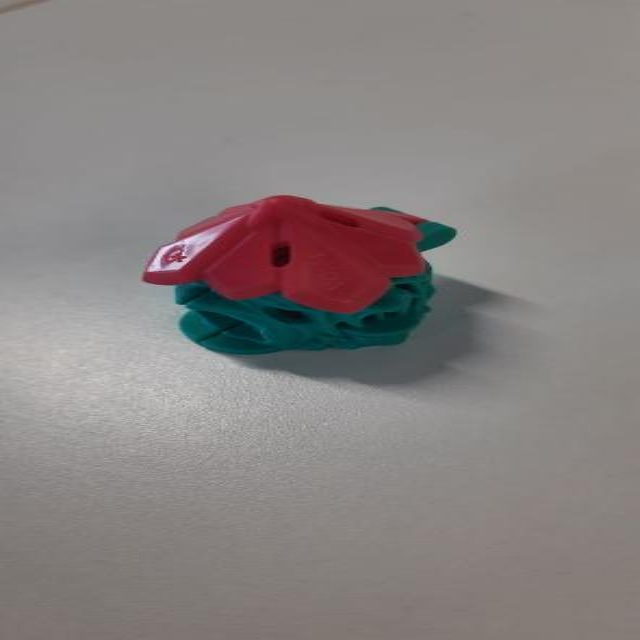House: (132, 192, 466, 372)
